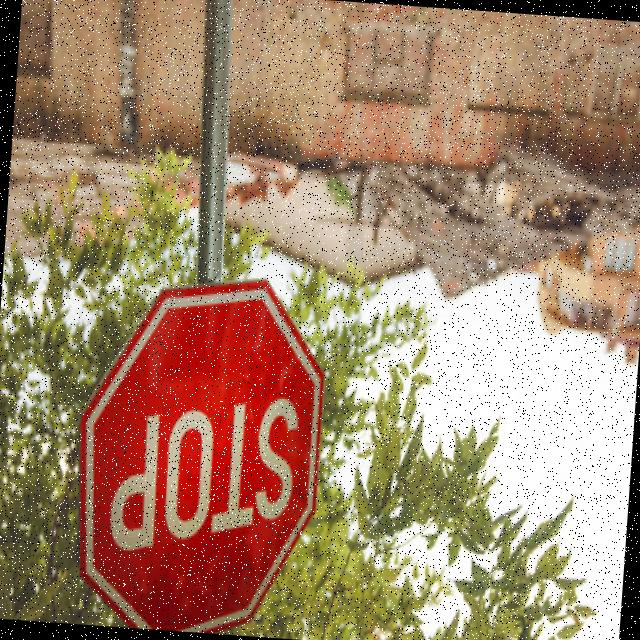stop: (59, 269, 337, 640)
